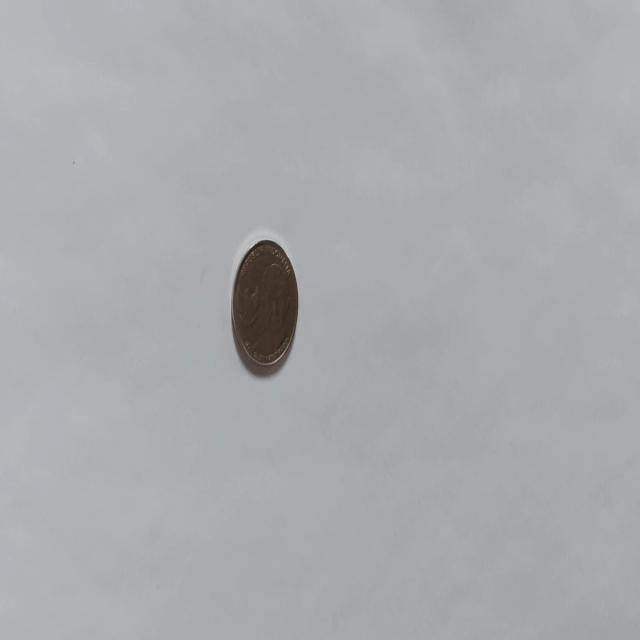seribu rupiah koin: (229, 236, 299, 370)
